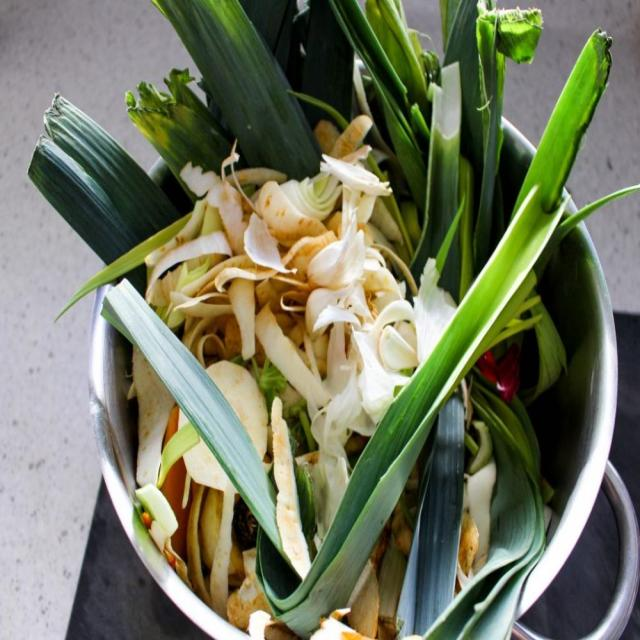Organik: (125, 141, 526, 607)
